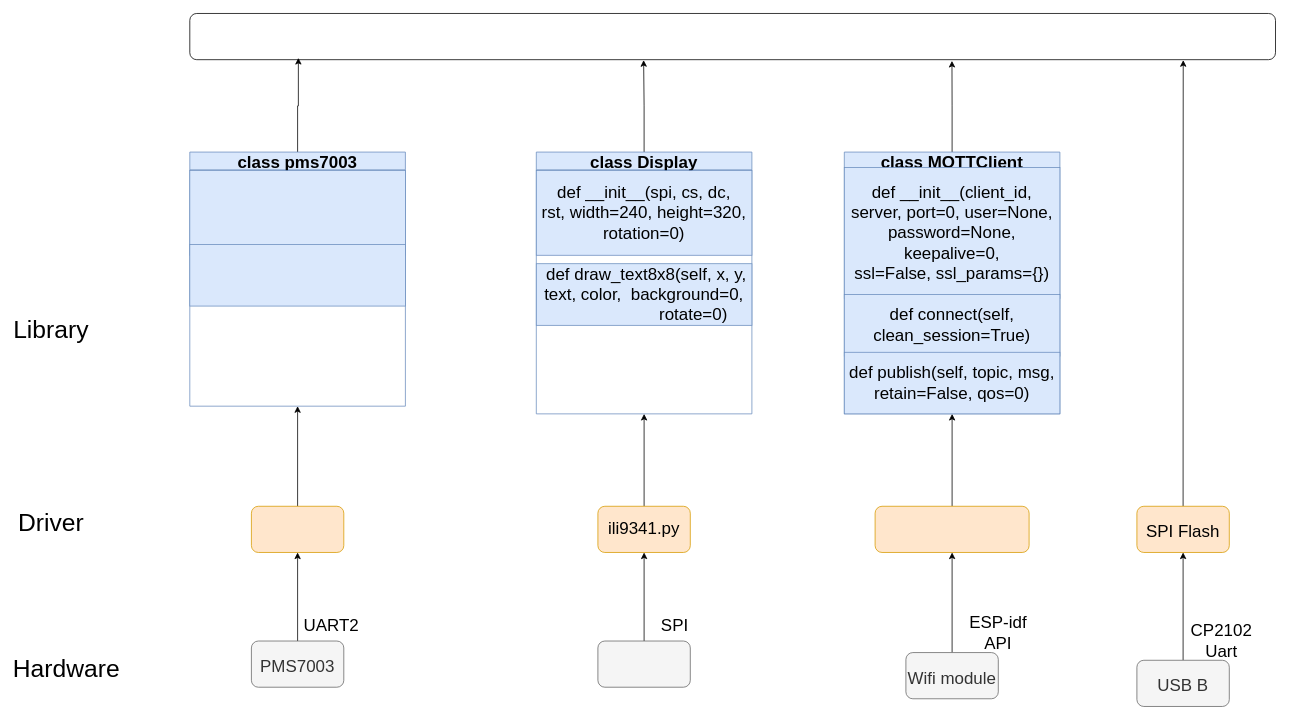
This 1289x720 diagram has some shape labels left out. The box of each missing label's shape, as (x1, y1, x2, y2) in pixels:
AirSENSE V3: (189, 13, 1276, 60)
def __init__(uart_port): initial pms7003 hardware in uart_port serial port: (189, 170, 405, 255)
def read(): return pms7003 data in serial port: (189, 244, 405, 306)
IlI9341: (597, 640, 690, 687)
PMS7003.py: (251, 506, 344, 552)
umqttsimple.py: (874, 506, 1029, 552)
